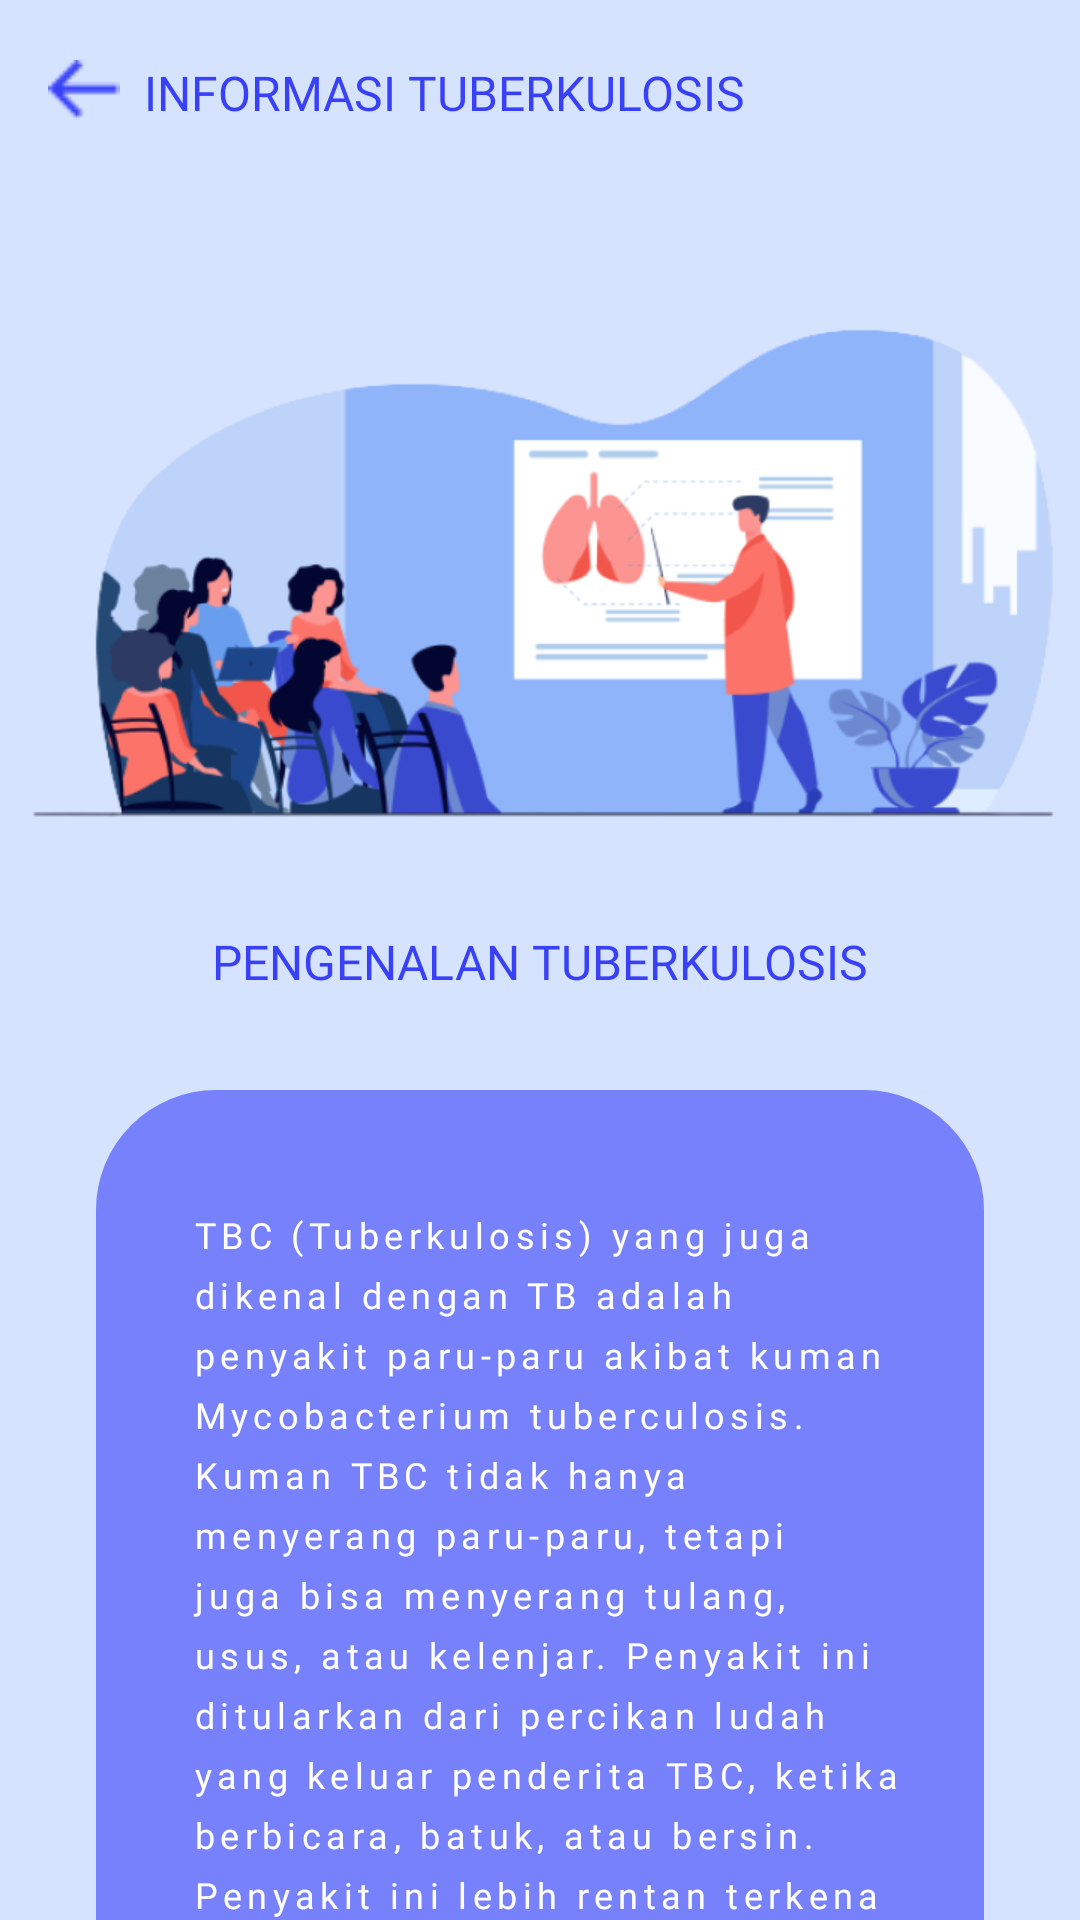

Point at icon controls on the screen. Image size 1080w x 1920h, points as (x=x, y=y).
back: (x=84, y=89)
